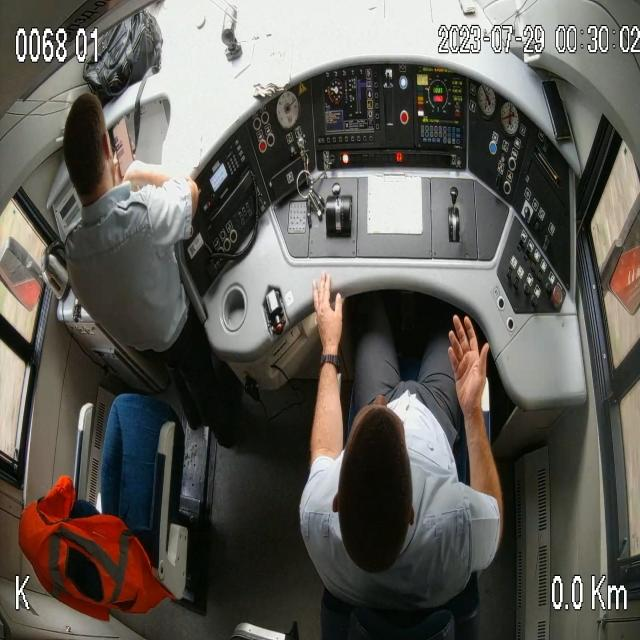smartphone: (108, 118, 134, 184)
